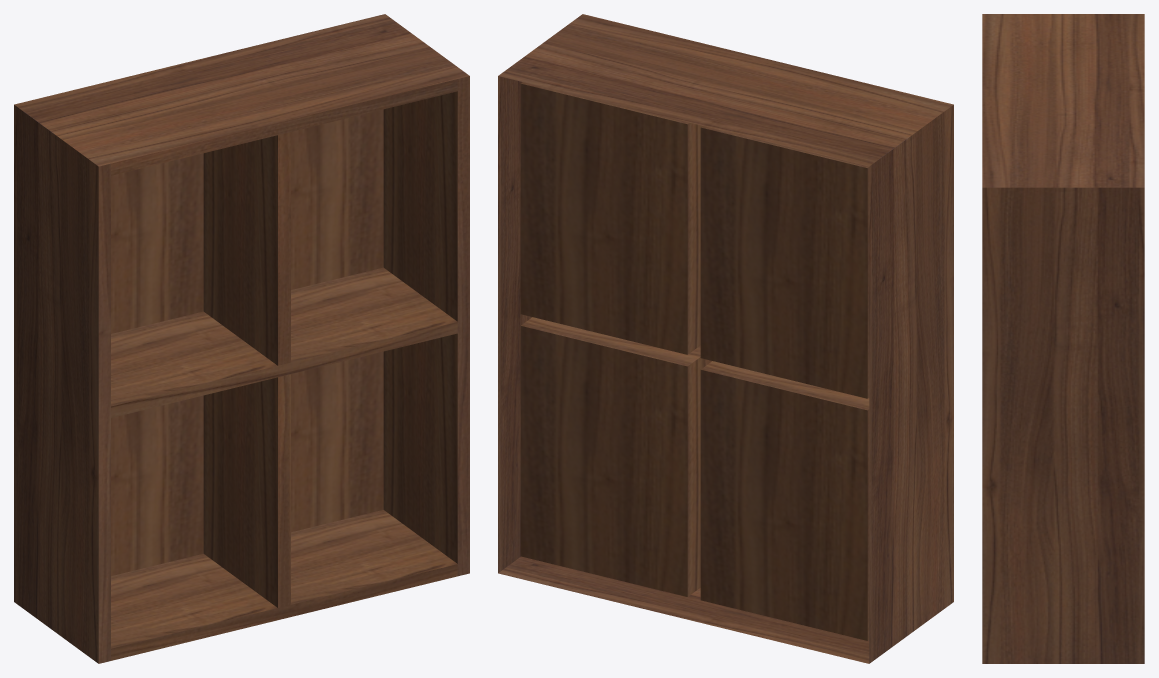
Rendered from wall rack2.FBX.
The picture shows the model from 3 angles, left to right: view 1: azimuth 30°, elevation 25°; view 2: azimuth 150°, elevation 25°; view 3: azimuth 270°, elevation 25°; orthographic projection. The views are drawn at different scales.
Visible parts, largest first — view 1: wall rack2; view 2: wall rack2; view 3: wall rack2.
Part boxes in pixels (x1,y1,x2,y2): wall rack2: (14, 14, 469, 663); wall rack2: (498, 14, 953, 663); wall rack2: (982, 14, 1144, 663).
Size of the model in its own units: 24.47 by 9.67 by 31.32.
